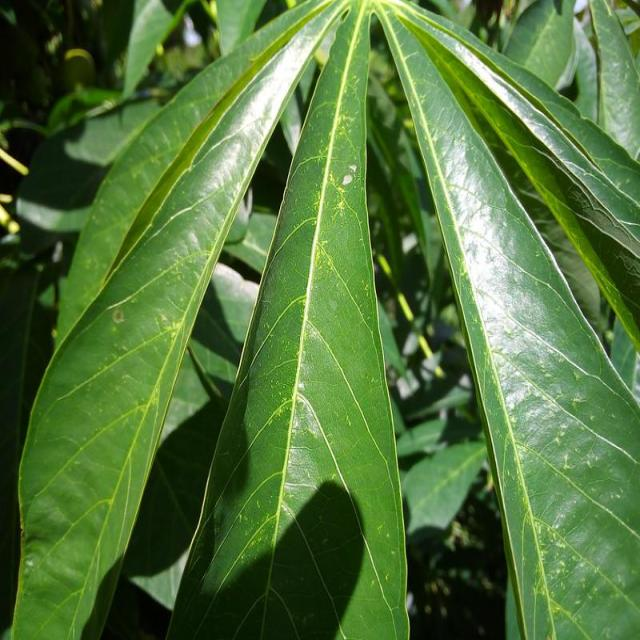cassava leaf: (8, 1, 638, 638), (374, 1, 640, 637), (164, 3, 410, 638)
